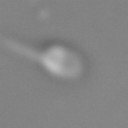normal: (1, 33, 41, 63)
